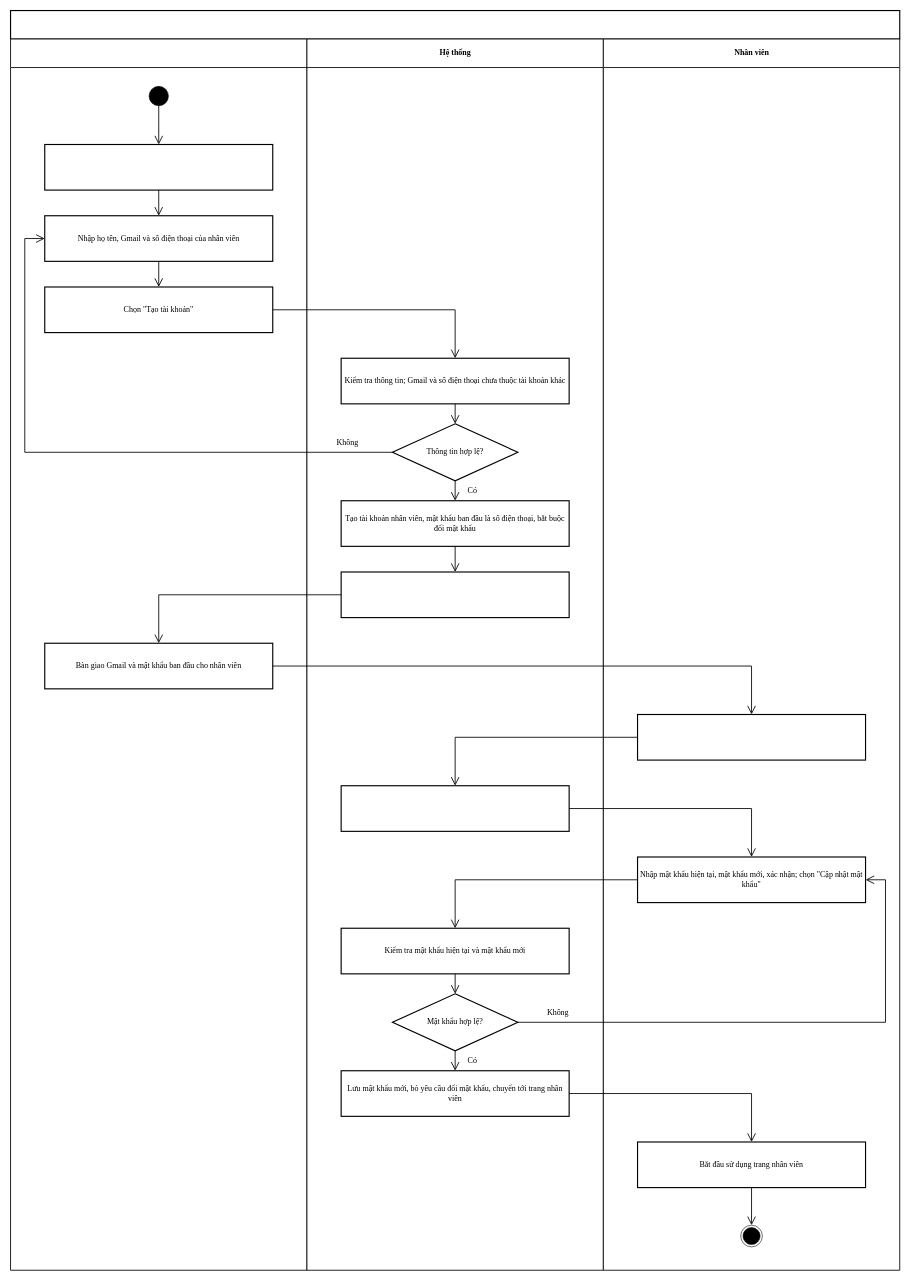
This 910x1280 diagram has some shape labels left out. The shapes that lost their labels are listed below. From the top down, each one's box as (x1, y1, x2, y2) in pixels, then its label:
(10, 10, 900, 39): SƠ ĐỒ HOẠT ĐỘNG: QUY TRÌNH TẠO TÀI KHOẢN NHÂN VIÊN (QT07)
(44, 144, 273, 190): Mở trang quản lý nhân viên, chọn "Tạo tài khoản nhân viên"
(340, 571, 569, 618): Hiển thị mật khẩu ban đầu cho quản trị viên
(10, 38, 307, 1270): Quản trị viên
(637, 714, 866, 760): Đăng nhập trang quản lý bằng Gmail và mật khẩu ban đầu
(340, 785, 569, 832): Kiểm tra đăng nhập, chuyển tới trang đổi mật khẩu
